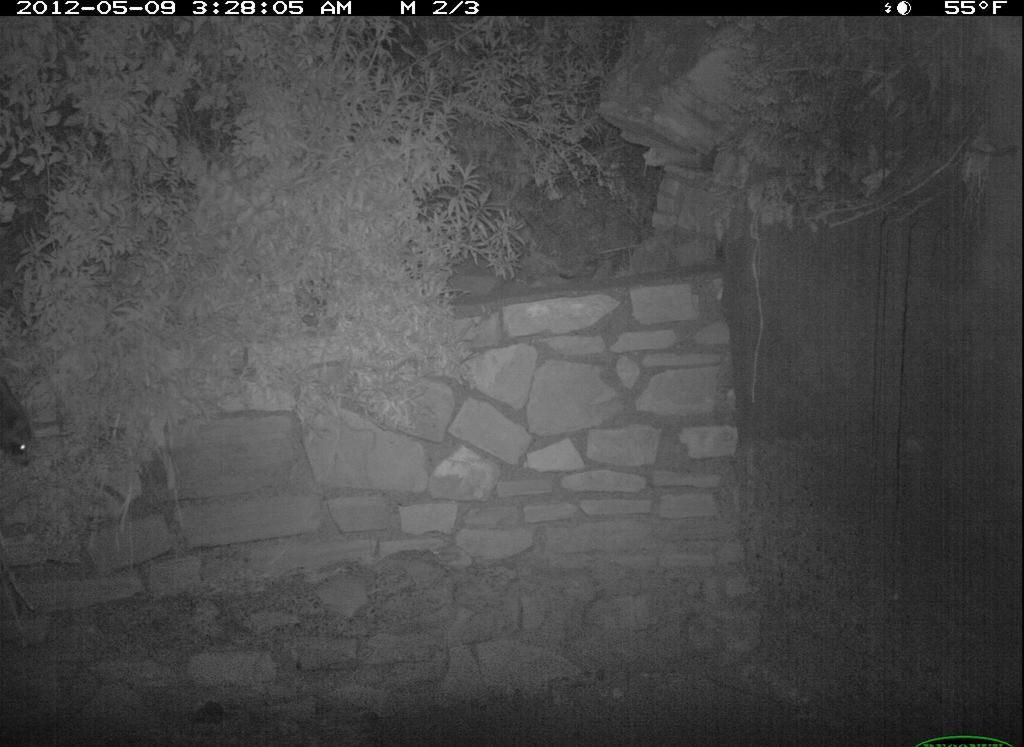raccoon: (2, 367, 47, 488)
